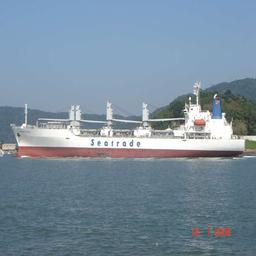Ship: (11, 95, 249, 162)
